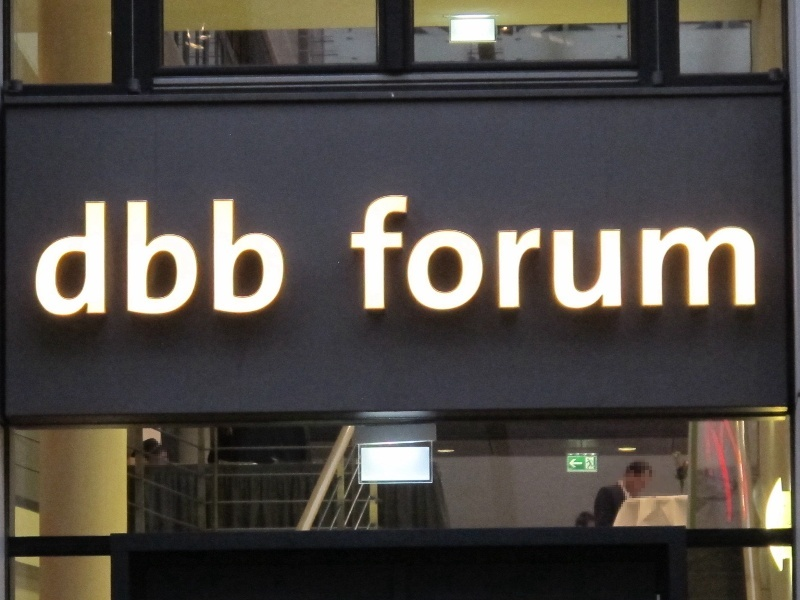text: (353, 194, 368, 315), (369, 194, 384, 315), (385, 194, 400, 315), (401, 194, 416, 315), (417, 194, 432, 315), (433, 194, 448, 315), (449, 194, 464, 315), (465, 194, 480, 315), (481, 194, 496, 315), (497, 194, 512, 315), (513, 194, 528, 315), (529, 194, 544, 315), (545, 194, 560, 315), (561, 194, 576, 315), (577, 194, 592, 315), (593, 194, 608, 315), (609, 194, 624, 315), (625, 194, 640, 315), (641, 194, 656, 315), (657, 194, 672, 315), (673, 194, 688, 315), (689, 194, 704, 315), (705, 194, 720, 315), (721, 194, 736, 315), (737, 194, 752, 315), (49, 199, 64, 319), (65, 199, 80, 319), (81, 199, 96, 319), (97, 199, 112, 319), (113, 199, 128, 319), (129, 199, 144, 319), (145, 199, 160, 319), (161, 199, 176, 319), (177, 199, 192, 319), (193, 199, 208, 319), (209, 199, 224, 319), (225, 199, 240, 319), (241, 199, 256, 319), (257, 199, 272, 319), (273, 199, 286, 319), (38, 199, 48, 319), (753, 194, 758, 315)
